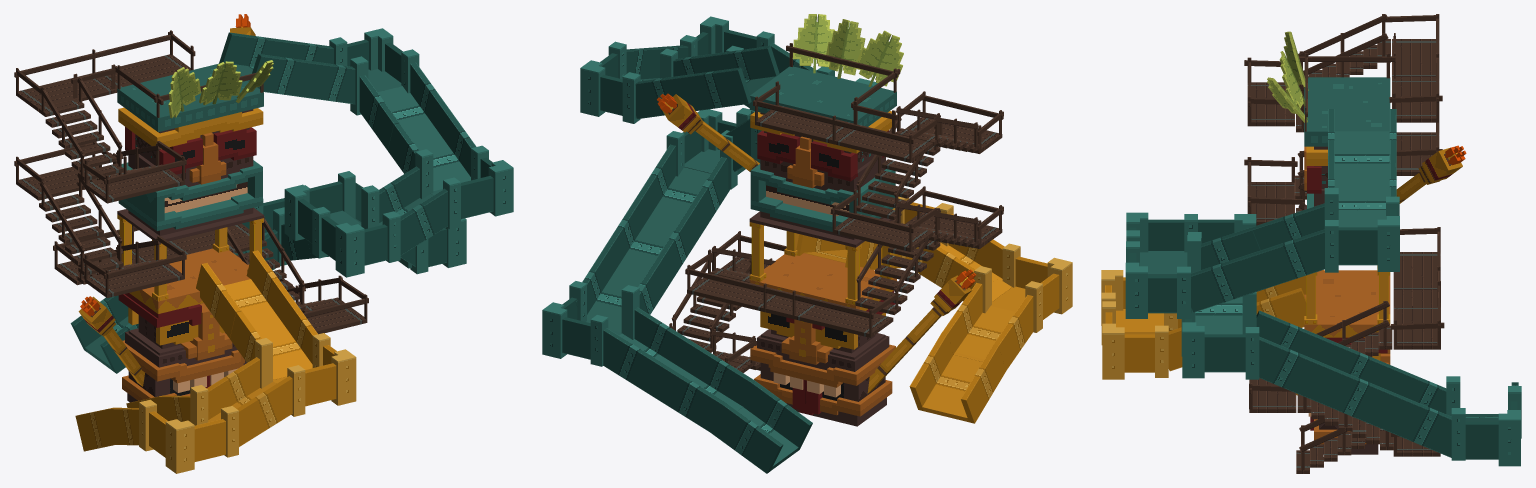
3 views of the same model, side by side, from view 1: azimuth 30°, elevation 25°; view 2: azimuth 150°, elevation 25°; view 3: azimuth 270°, elevation 25° (orthographic). The views are drawn at different scales.
Visible parts, largest first — view 1: Tiki04-Local, Tiki01-Local, ParedTubo01 (2)-Local, ParedTubo02 (11)-Local, ParedTubo02 (7)-Local, Plataforma01 (5)-Local, Plataforma01 (3)-Local, ParedTubo02 (13)-Local, ParedTubo02 (2)-Local, ParedTubo02 (3)-Local, Tubo04 (1)-Local, Tubo02-Local (+60 smaller); view 2: Tiki04-Local, Tiki01-Local, ParedTubo02 (16)-Local, ParedTubo02 (15)-Local, ParedTubo01 (20)-Local, ParedTubo02 (17)-Local, Tubo01 (1)-Local, ParedTubo01 (24)-Local, ParedTubo01 (23)-Local, ParedTubo01 (25)-Local, Plataforma01 (4)-Local, Plataforma01 (6)-Local (+59 smaller); view 3: Tiki04-Local, Tiki01-Local, Tubo06-Local, ParedTubo01 (18)-Local, ParedTubo01 (11)-Local, ParedTubo01 (10)-Local, ParedTubo01 (19)-Local, ParedTubo01 (21)-Local, Tubo02 (2)-Local, ParedTubo02 (10)-Local, ParedTubo02 (8)-Local, ParedTubo02 (12)-Local (+51 smaller).
Part boxes in pixels (<box>): Tiki04-Local: <box>117,63,263,241</box>; Tiki01-Local: <box>118,248,250,402</box>; ParedTubo01 (2)-Local: <box>237,376,292,446</box>; ParedTubo02 (11)-Local: <box>400,188,447,255</box>; ParedTubo02 (7)-Local: <box>303,62,355,104</box>; Plataforma01 (5)-Local: <box>84,259,184,297</box>; Plataforma01 (3)-Local: <box>84,164,184,203</box>; ParedTubo02 (13)-Local: <box>249,54,320,97</box>; ParedTubo02 (2)-Local: <box>207,357,259,417</box>; ParedTubo02 (3)-Local: <box>196,263,241,338</box>; Tubo04 (1)-Local: <box>378,86,438,139</box>; Tubo02-Local: <box>254,321,312,379</box>; Tiki04-Local: <box>749,66,896,247</box>; Tiki01-Local: <box>749,253,896,426</box>; ParedTubo02 (16)-Local: <box>712,402,783,473</box>; ParedTubo02 (15)-Local: <box>652,365,725,433</box>; ParedTubo01 (20)-Local: <box>678,67,751,110</box>; ParedTubo02 (17)-Local: <box>603,328,666,395</box>; Tubo01 (1)-Local: <box>922,352,983,422</box>; ParedTubo01 (24)-Local: <box>743,381,812,451</box>; ParedTubo01 (23)-Local: <box>683,344,754,406</box>; ParedTubo01 (25)-Local: <box>634,307,695,369</box>; Plataforma01 (4)-Local: <box>832,213,933,251</box>; Plataforma01 (6)-Local: <box>793,299,893,337</box>; Tiki04-Local: <box>1304,77,1390,209</box>; Tiki01-Local: <box>1304,270,1390,454</box>; Tubo06-Local: <box>1334,131,1389,185</box>; ParedTubo01 (18)-Local: <box>1313,366,1398,428</box>; ParedTubo01 (11)-Local: <box>1191,253,1265,312</box>; ParedTubo01 (10)-Local: <box>1252,229,1324,288</box>; ParedTubo01 (19)-Local: <box>1259,336,1329,399</box>; ParedTubo01 (21)-Local: <box>1383,395,1451,457</box>; Tubo02 (2)-Local: <box>1334,186,1389,227</box>; ParedTubo02 (10)-Local: <box>1320,339,1399,390</box>; ParedTubo02 (8)-Local: <box>1252,203,1324,250</box>; ParedTubo02 (12)-Local: <box>1256,310,1329,361</box>.
Bounding box in the file's own units: 496 × 494 × 490.
297 materials, 297 textured.
